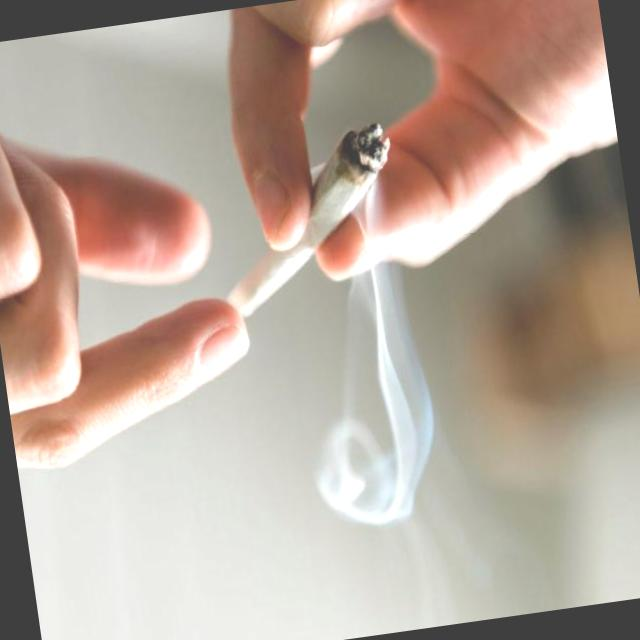cigarette: (204, 119, 414, 322)
